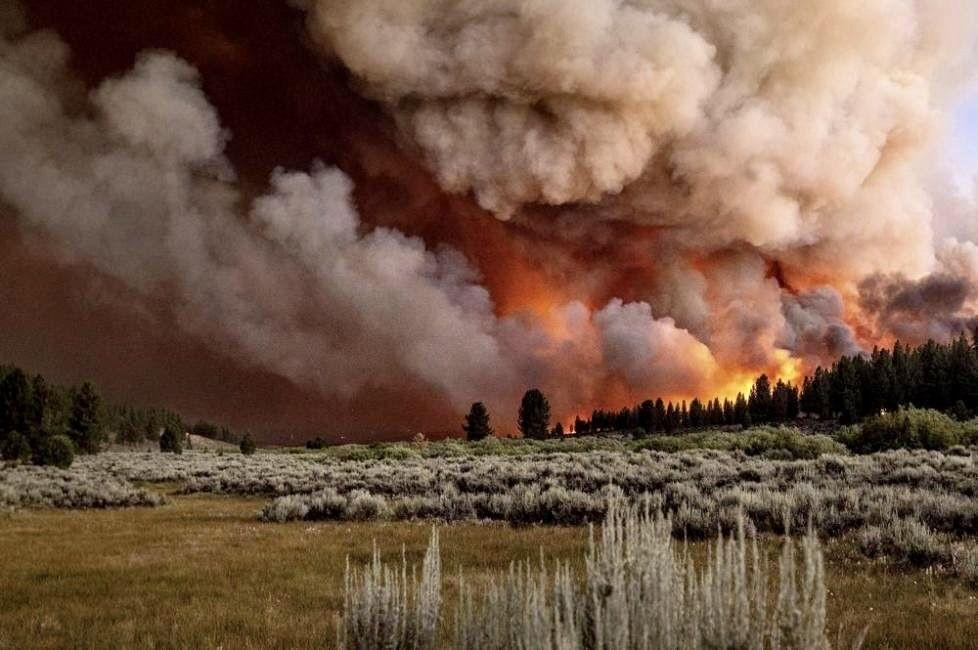fire: (692, 362, 792, 414)
smoke: (9, 2, 575, 514), (415, 13, 776, 463), (308, 15, 958, 231), (757, 8, 972, 419)
